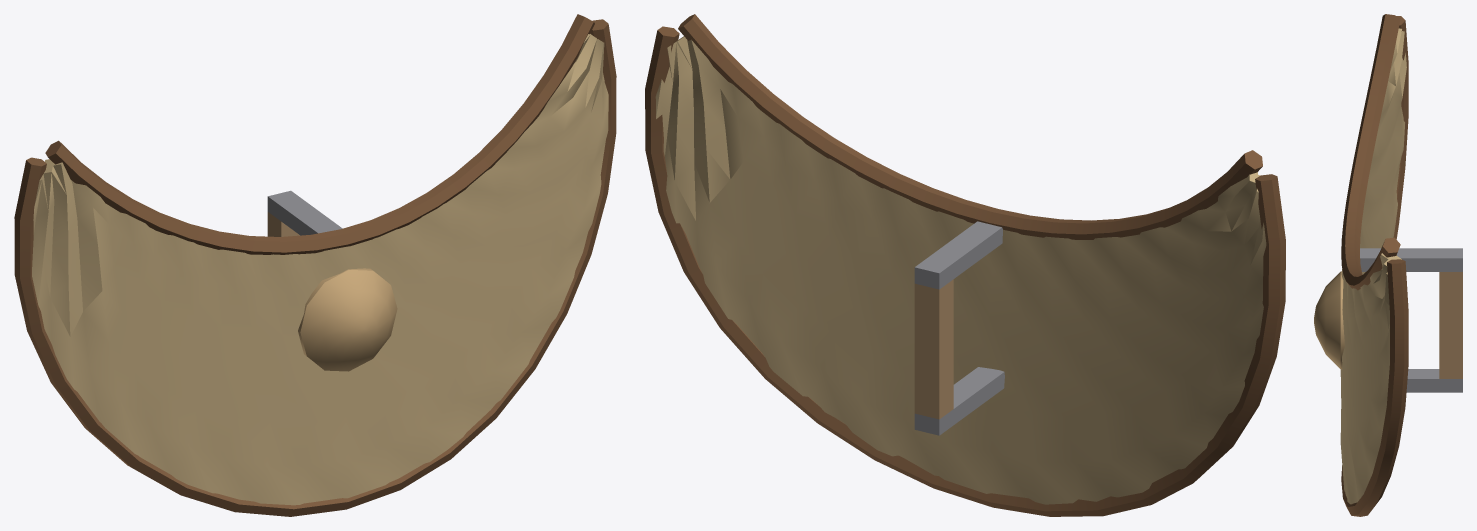
The model's file is pelta.glb.
The picture shows the model from 3 angles, left to right: view 1: azimuth 30°, elevation 25°; view 2: azimuth 150°, elevation 25°; view 3: azimuth 270°, elevation 25°; orthographic projection. The views are drawn at different scales.
Parts seen in each view (by area): view 1: OUT; view 2: OUT; view 3: OUT.
Part boxes in pixels (x1,y1,x2,y2): OUT: (14, 14, 616, 516); OUT: (645, 14, 1285, 516); OUT: (1314, 14, 1462, 516).
Bounding box in the file's own units: 0.6142 × 0.4062 × 0.151.
